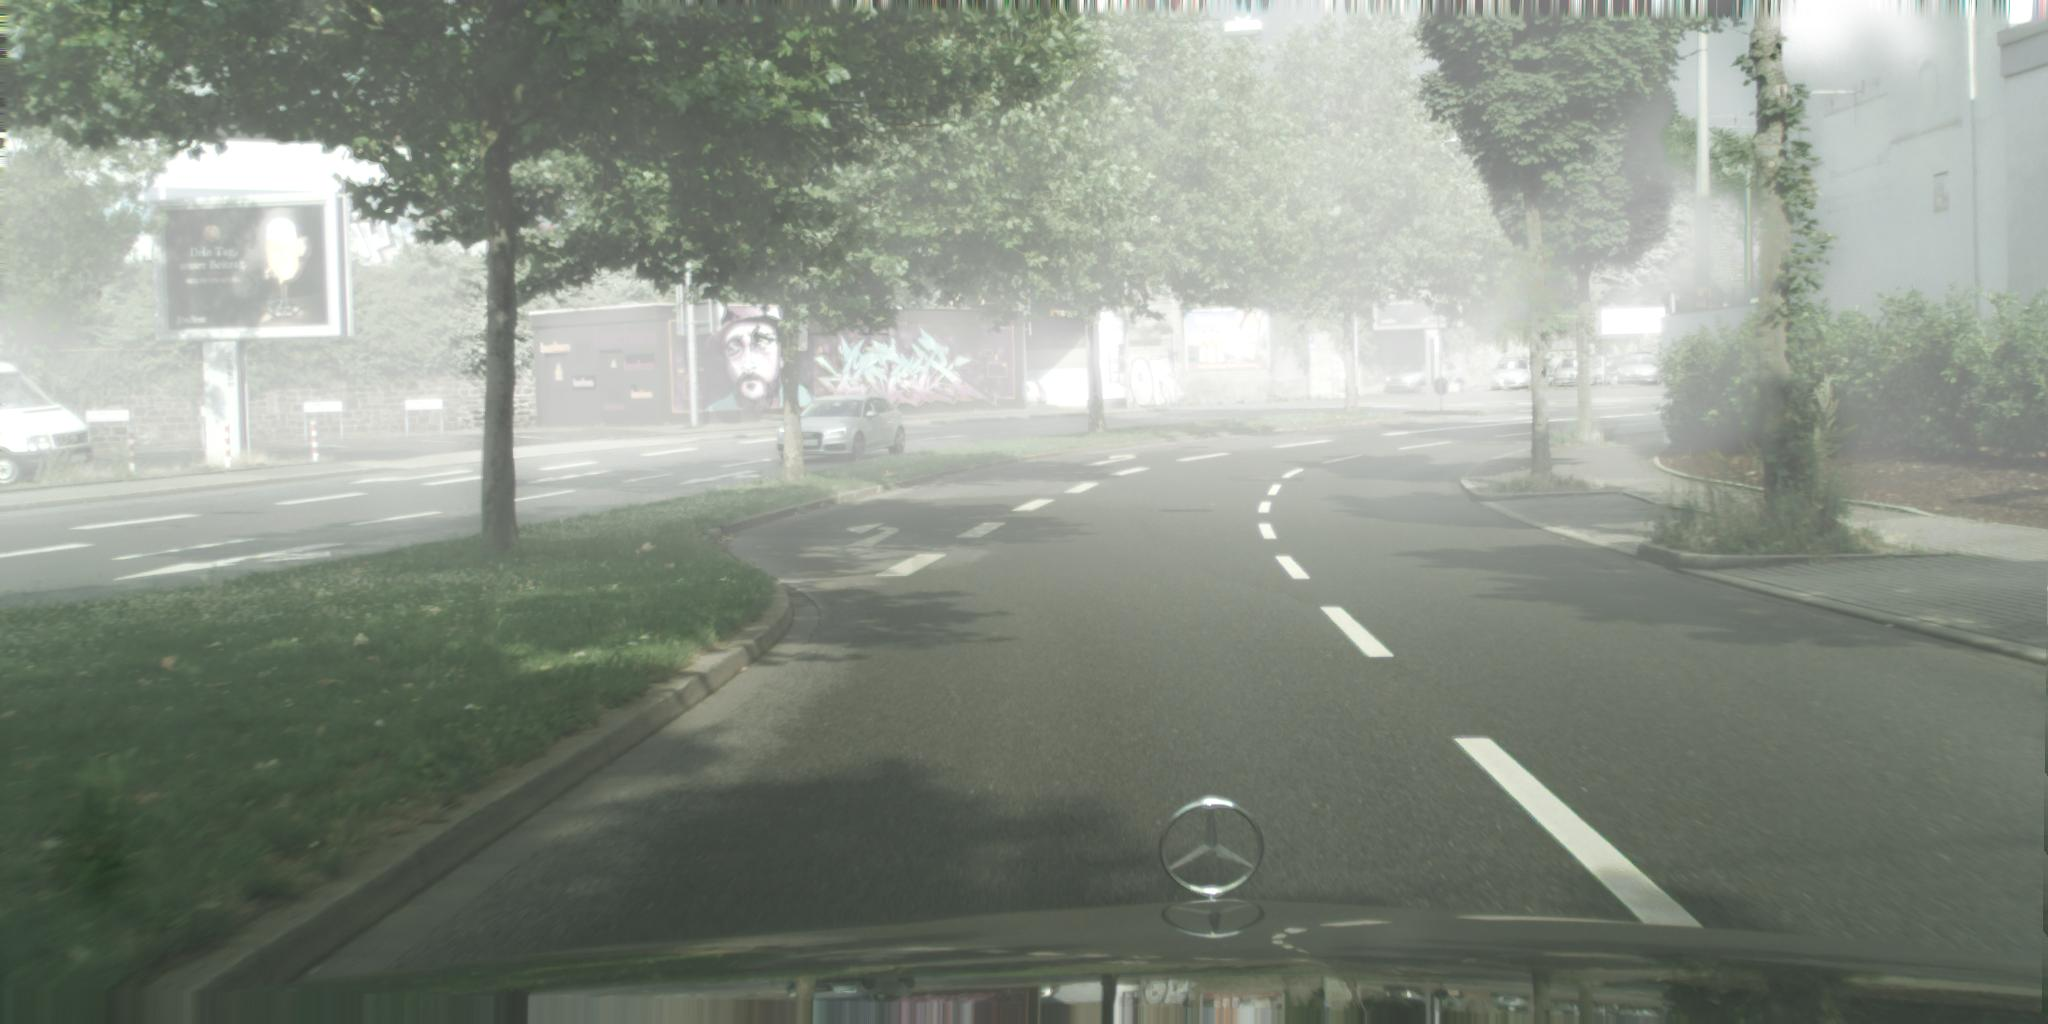car: (1, 362, 95, 488), (777, 394, 906, 464), (1384, 362, 1465, 394), (1614, 354, 1663, 387), (1554, 357, 1600, 388), (1492, 358, 1535, 391)
